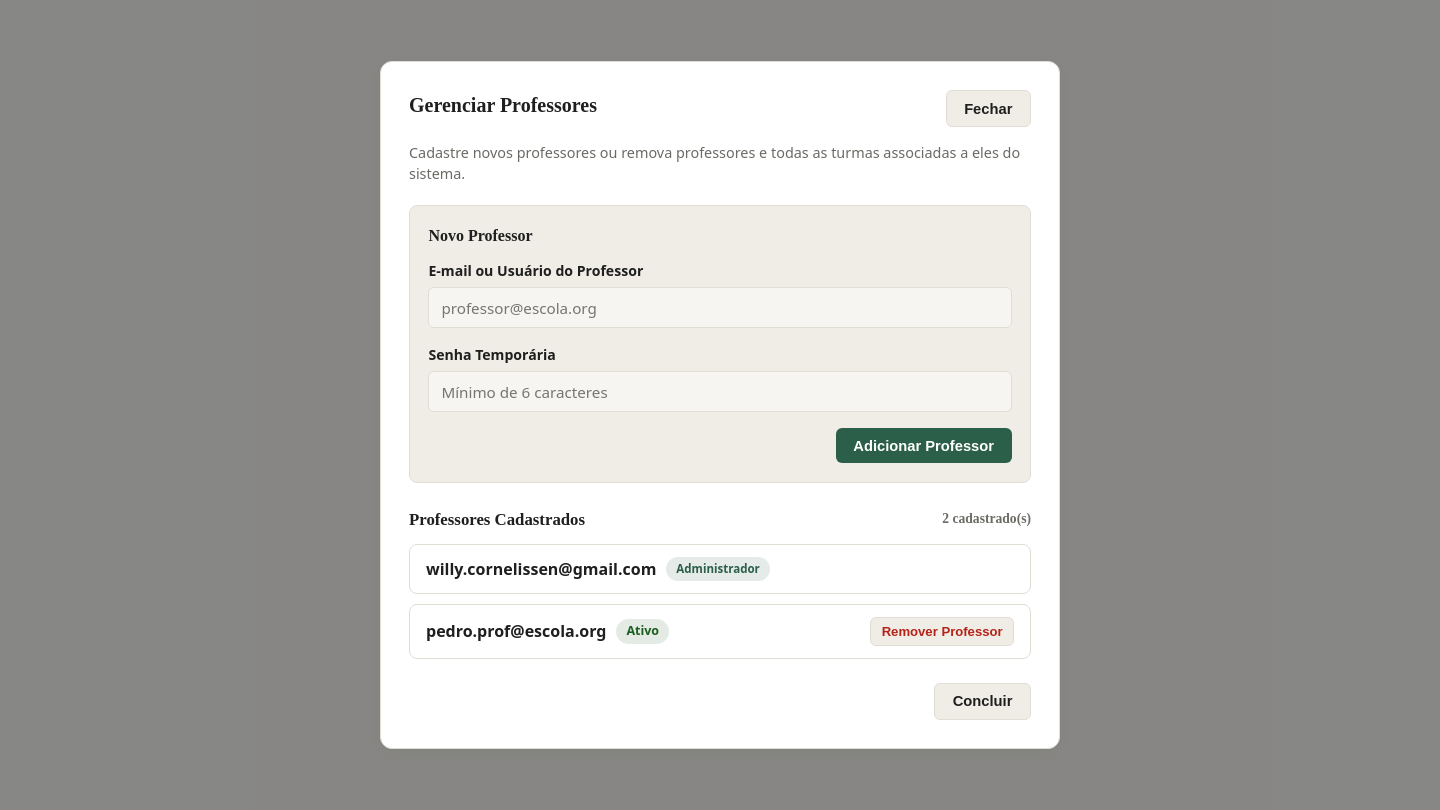
Test: components/AddUserModal › allows removing a professor and their turmas with inline confirmation and removes them from the list
Check: the text "pedro.prof@escola.org" is shown, box x1=426 y1=620 x2=606 y2=644
Click the button with aria-label "remover professor pedro.prof@escola.org" at (942, 632), box x1=870 y1=617 x2=1014 y2=646
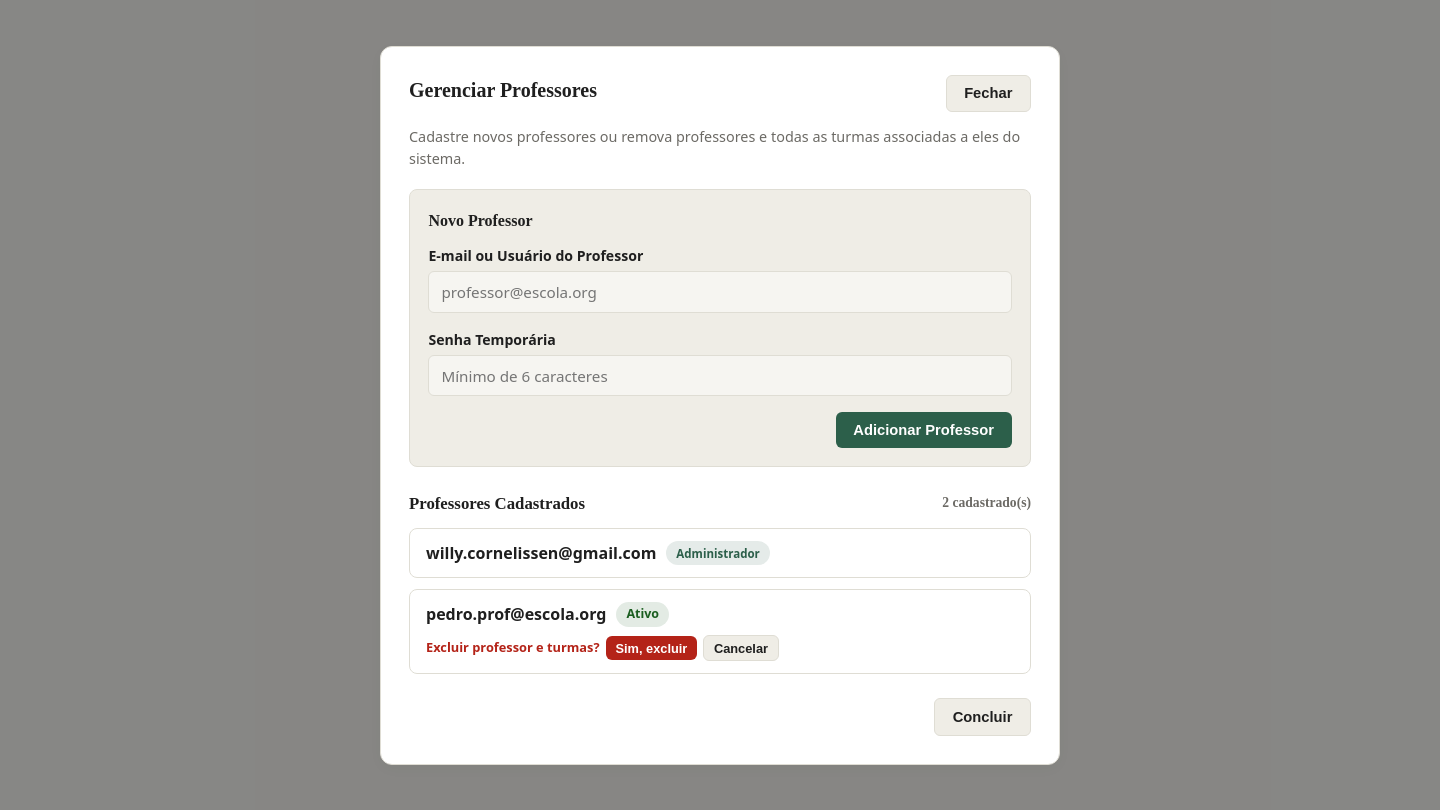
Check: the text "Excluir professor e turmas?" is shown, box x1=426 y1=638 x2=600 y2=658
Click the button "Sim, excluir" at (651, 648), box x1=606 y1=636 x2=697 y2=660
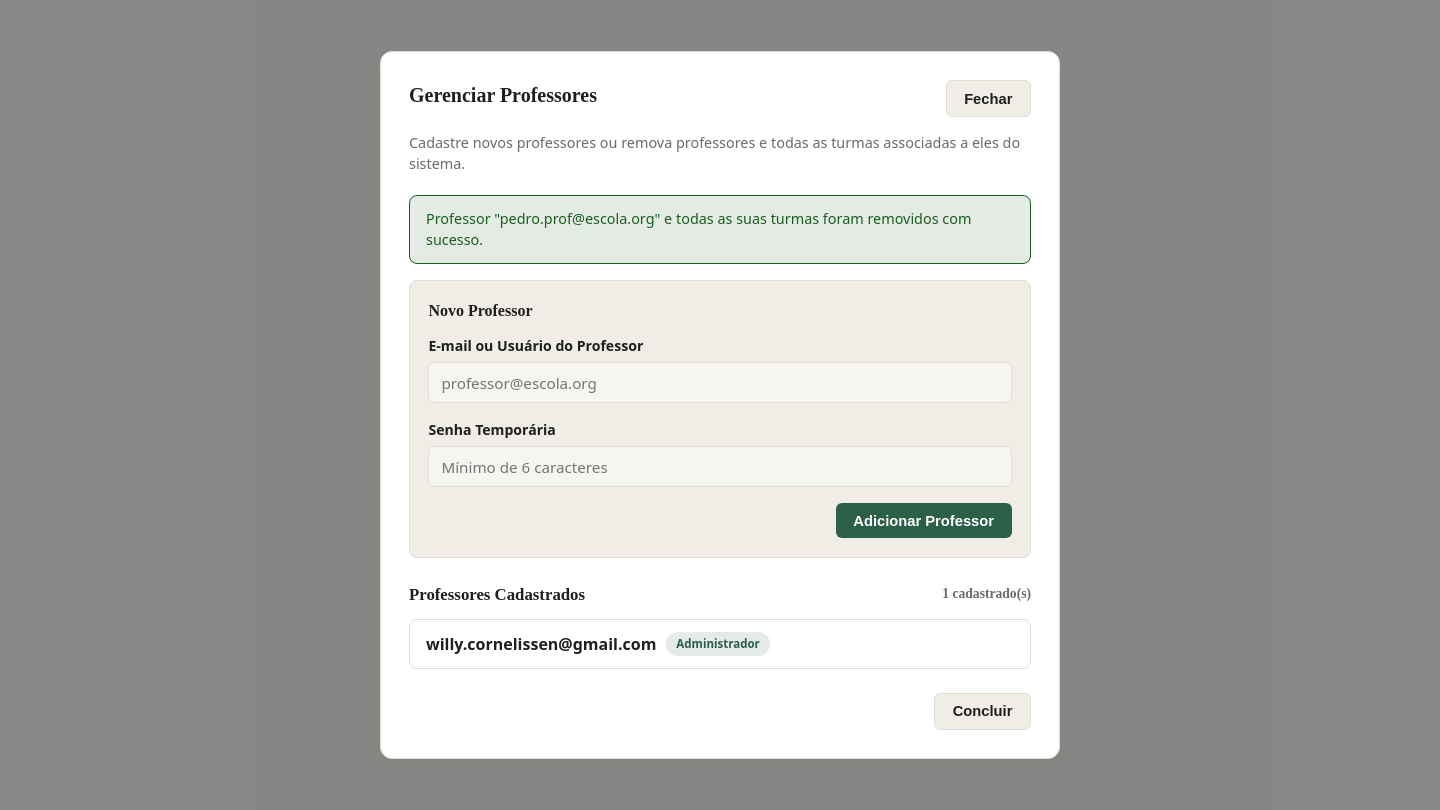
Check: the message shows "Professor \"pedro.prof@escola.org\" e todas as suas turmas foram removidos com sucesso.", box x1=426 y1=209 x2=971 y2=249
